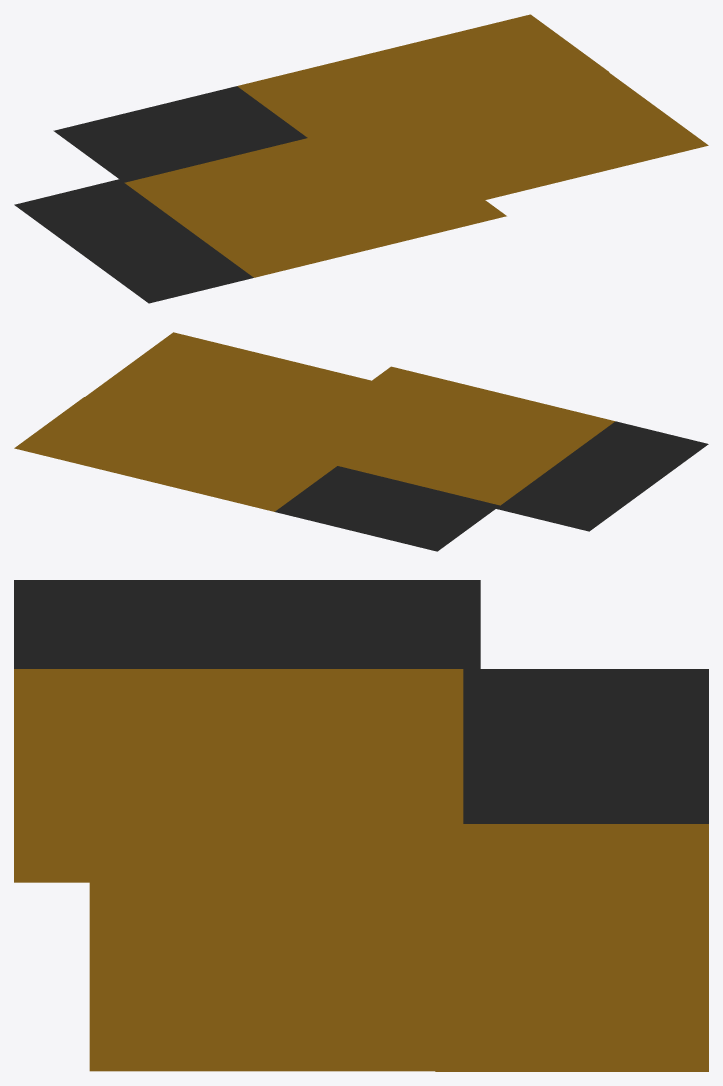
The model's file is Floor_house_gamejam.fbx.
3 renders of one model, top to bottom at view 1: azimuth 30°, elevation 25°; view 2: azimuth 150°, elevation 25°; view 3: azimuth 270°, elevation 25°, orthographic. The views are drawn at different scales.
Visible parts, largest first — view 1: Floor.001; view 2: Floor.001; view 3: Floor.001.
Boxes of the visible parts, x1=… form: Floor.001: x1=14, y1=14, x2=708, y2=303; Floor.001: x1=14, y1=332, x2=708, y2=551; Floor.001: x1=14, y1=580, x2=708, y2=1071.
Size of the model in its own units: 2470 by 0.00024 by 1475.
